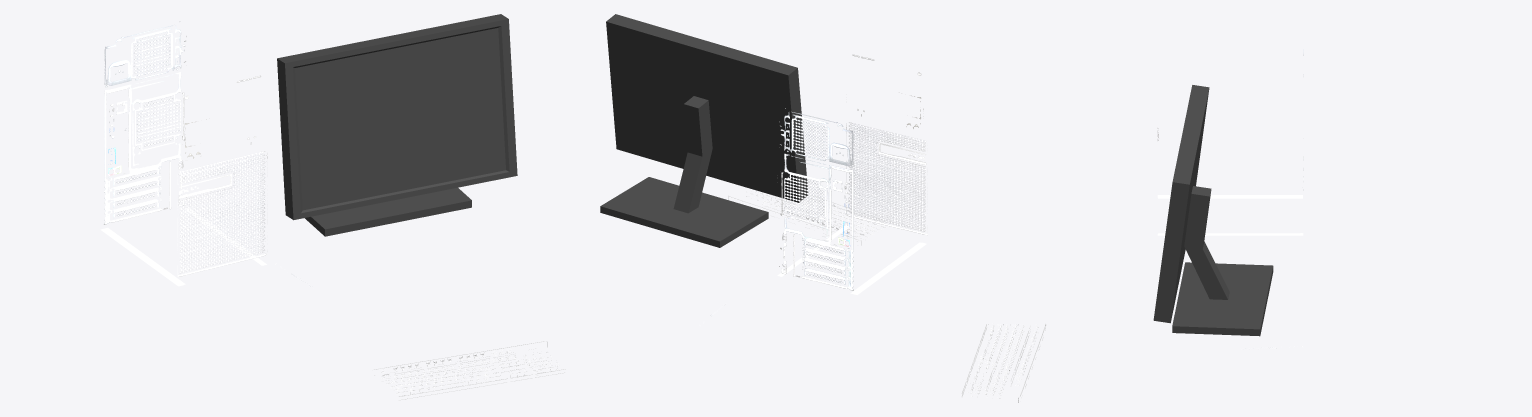
The model's file is TallDesk_PC.fbx.
3 renders of one model, left to right at view 1: azimuth 30°, elevation 25°; view 2: azimuth 150°, elevation 25°; view 3: azimuth 270°, elevation 25°, orthographic. The views are drawn at different scales.
Parts seen in each view (by area): view 1: Tower_mesh; view 2: Tower_mesh; view 3: Tower_mesh.
Boxes of the visible parts, left/top/right/bottom form: Tower_mesh: left=100, top=14, right=565, bottom=400; Tower_mesh: left=600, top=14, right=927, bottom=325; Tower_mesh: left=961, top=49, right=1303, bottom=402.
Size of the model in its own units: 17286 by 11953 by 23967.
